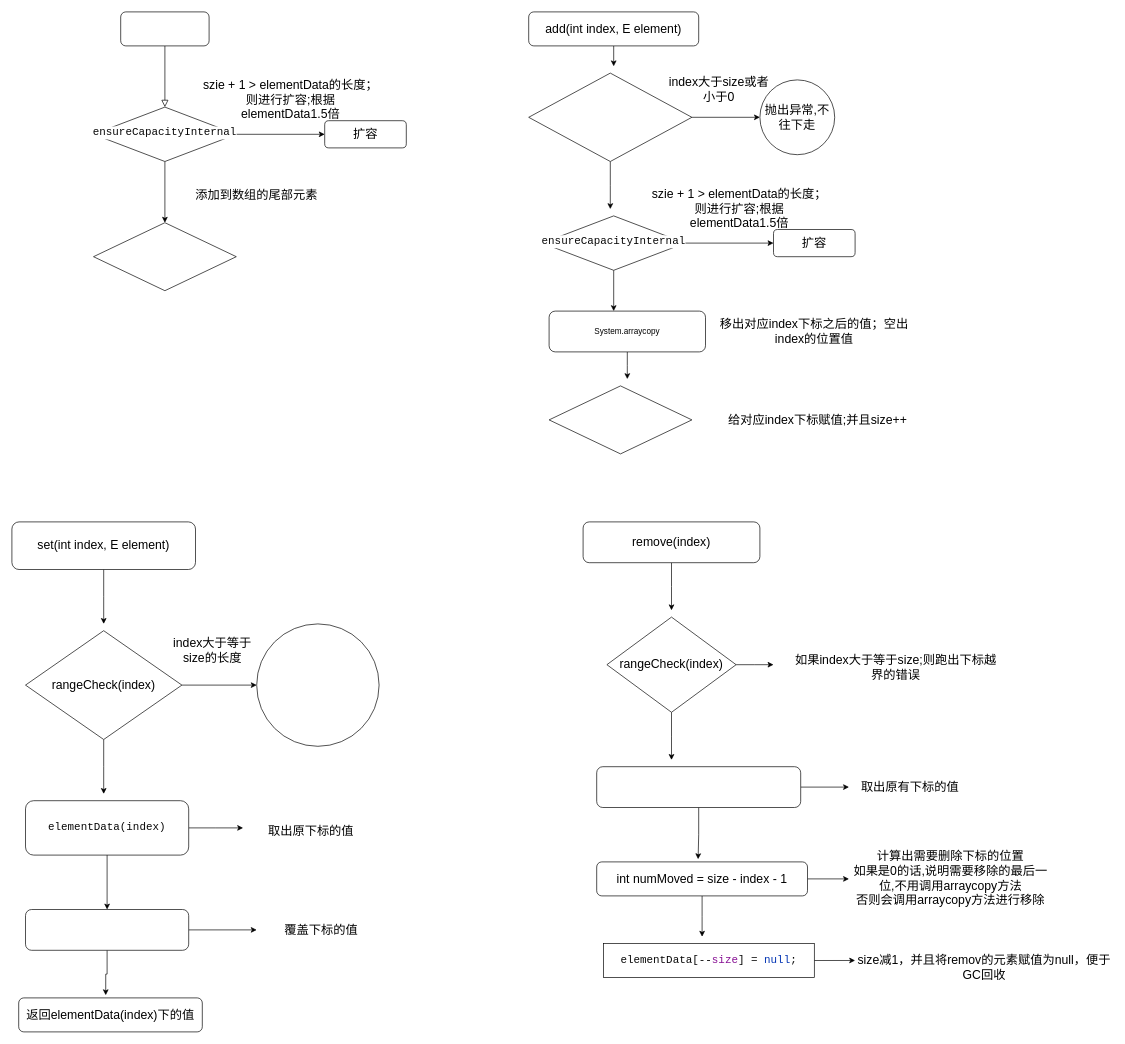
Some shapes in this 1125 by 1044 pixel diagram are drawn without their labels. The shapes that lost their labels are listed below. From the top down, each one's box as (x1, y1, x2, y2) in pixels, then its label:
(120, 11, 209, 46): add
(528, 72, 692, 162): rangeCheckForAdd(index)
(93, 222, 236, 291): elementData[ size ++] = e;
(548, 385, 692, 454): elementData[index] = element;
(256, 623, 379, 746): 抛出数组下标越界的错误
(596, 766, 801, 808): E oldValue = elementData(index)
(25, 909, 189, 950): elementData[index] = element
